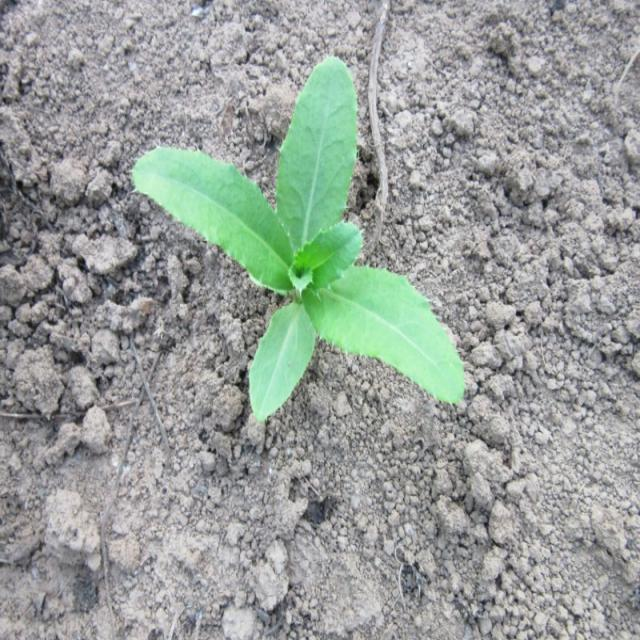cs: (130, 50, 471, 419)
